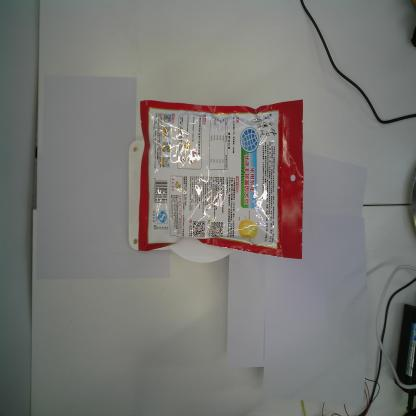Instant Drink: (137, 96, 305, 264)
